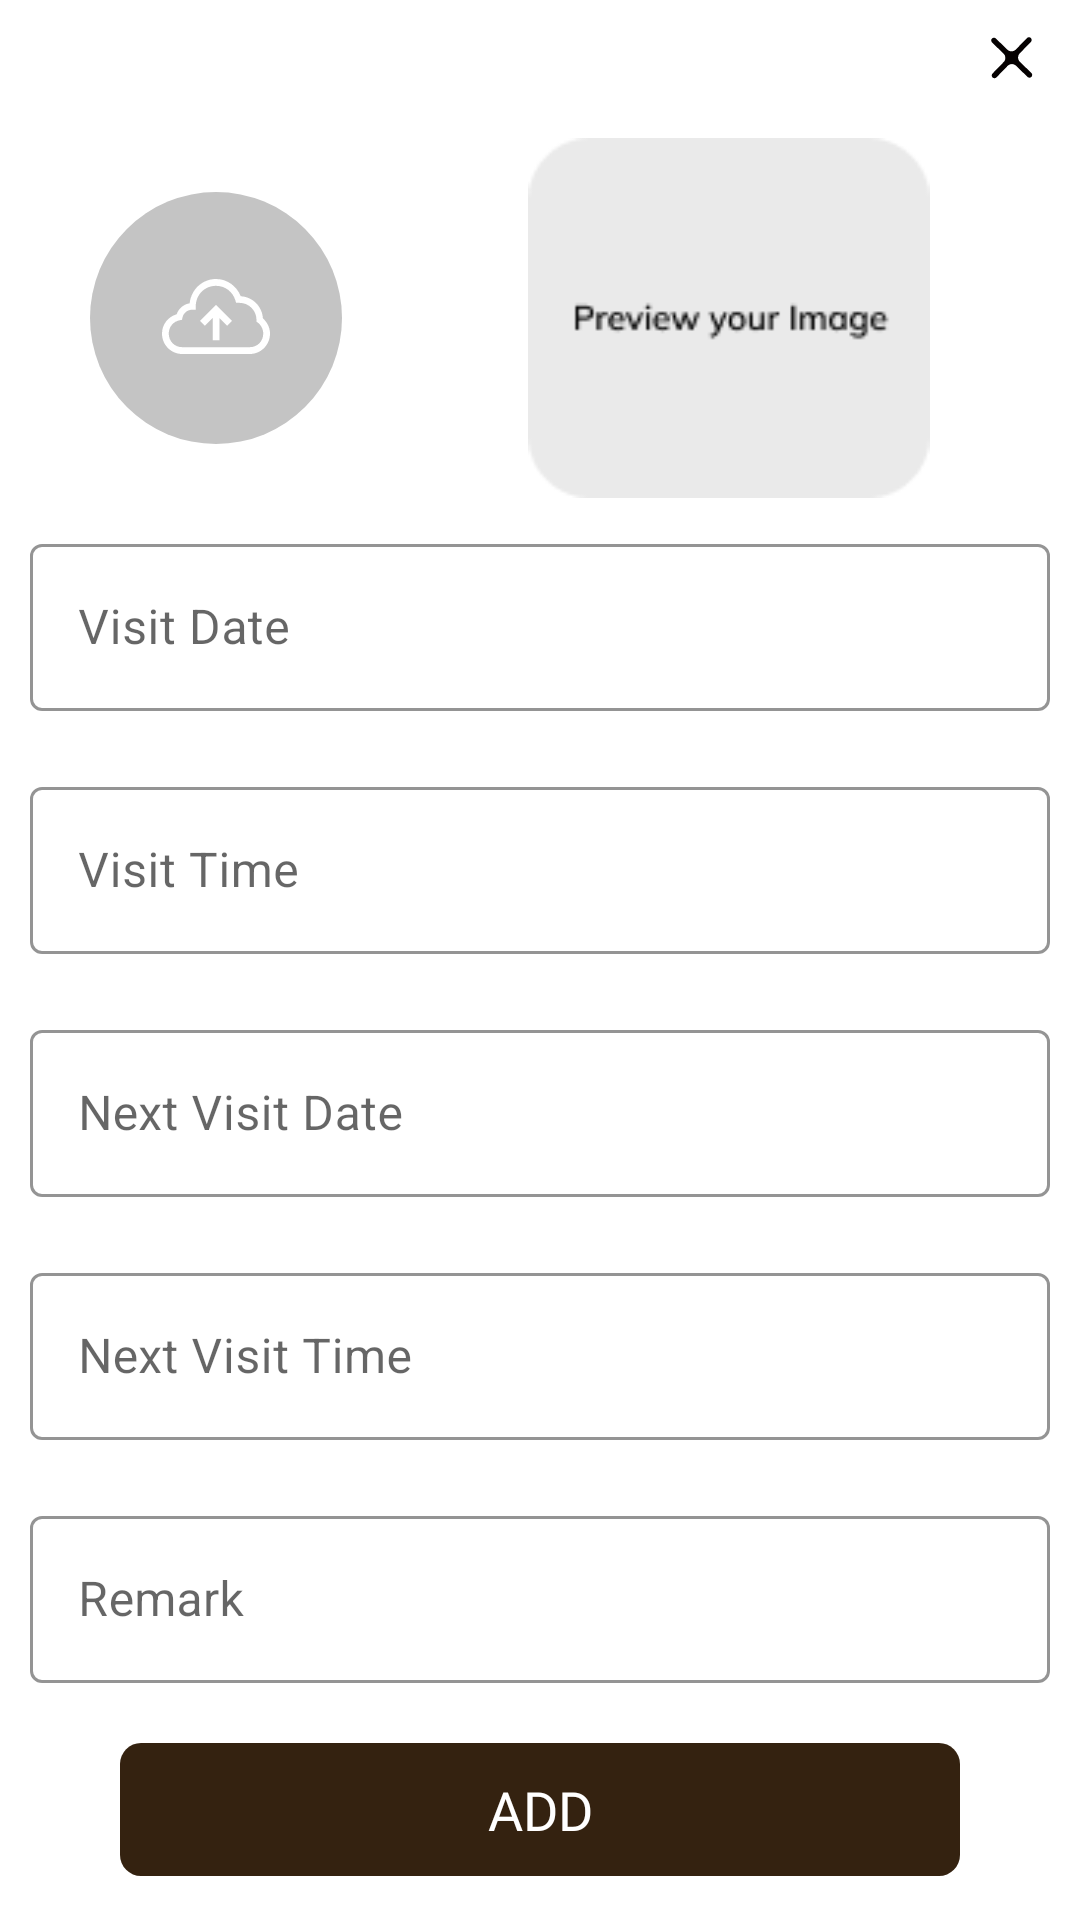

Icons on this 1080x1920 Android screen, each with its box as [x1,y1,x2,y2]:
cancel dialog: [991,37,1033,79]
upload: [90,192,342,444]
